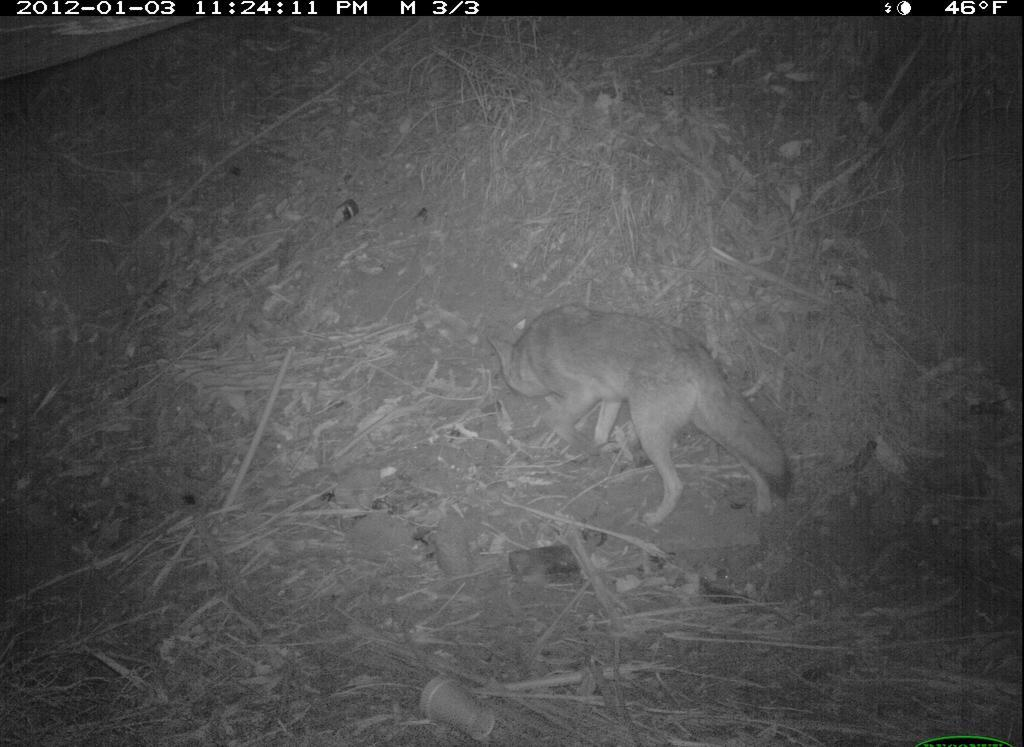coyote: (483, 300, 794, 530)
